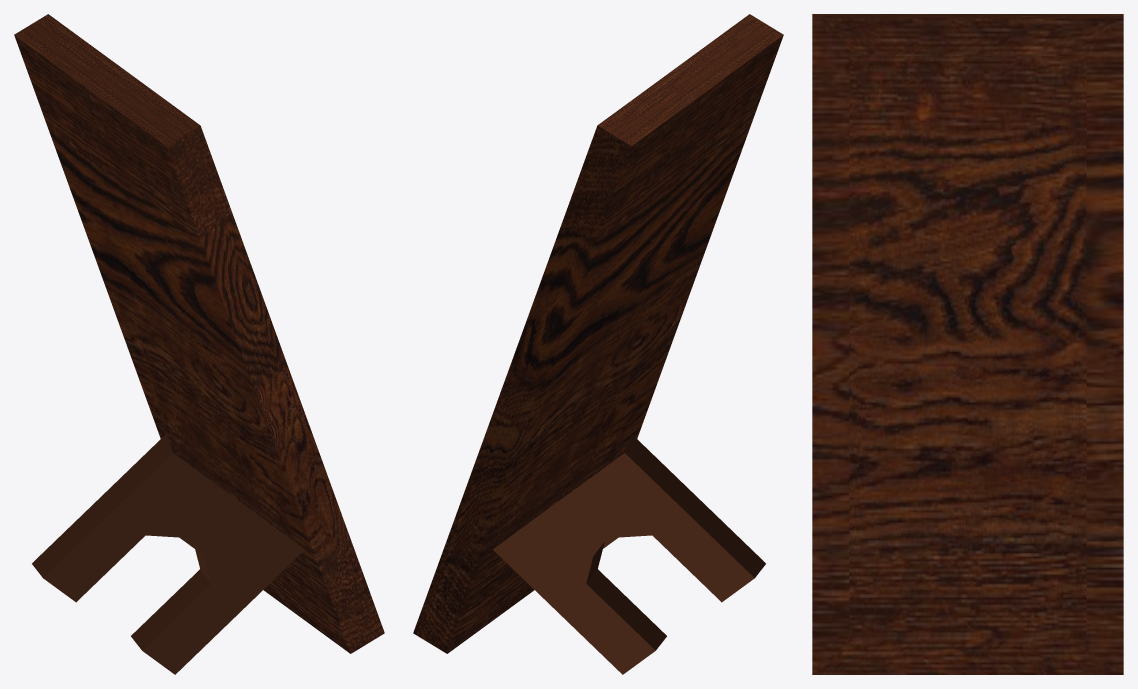
3 views of the same model, side by side, from view 1: azimuth 30°, elevation 25°; view 2: azimuth 150°, elevation 25°; view 3: azimuth 270°, elevation 25° (orthographic). The views are drawn at different scales.
Parts seen in each view (by area): view 1: Cube; view 2: Cube; view 3: Cube.
Boxes of the visible parts, x1=… form: Cube: x1=14, y1=14, x2=384, y2=674; Cube: x1=413, y1=14, x2=783, y2=674; Cube: x1=812, y1=14, x2=1123, y2=674.
Size of the model in its own units: 63.84 by 158 by 77.14.
1 material, 1 textured.
